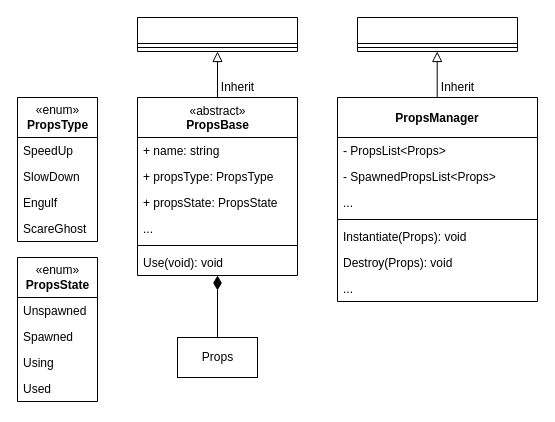
The diagram is 555 pixels wide and 422 high, and some of its shapes have lost their labels. Each missing label, with the centre of its shape:
ScriptableObject: the point at 217,34
Singleton: the point at 437,34
